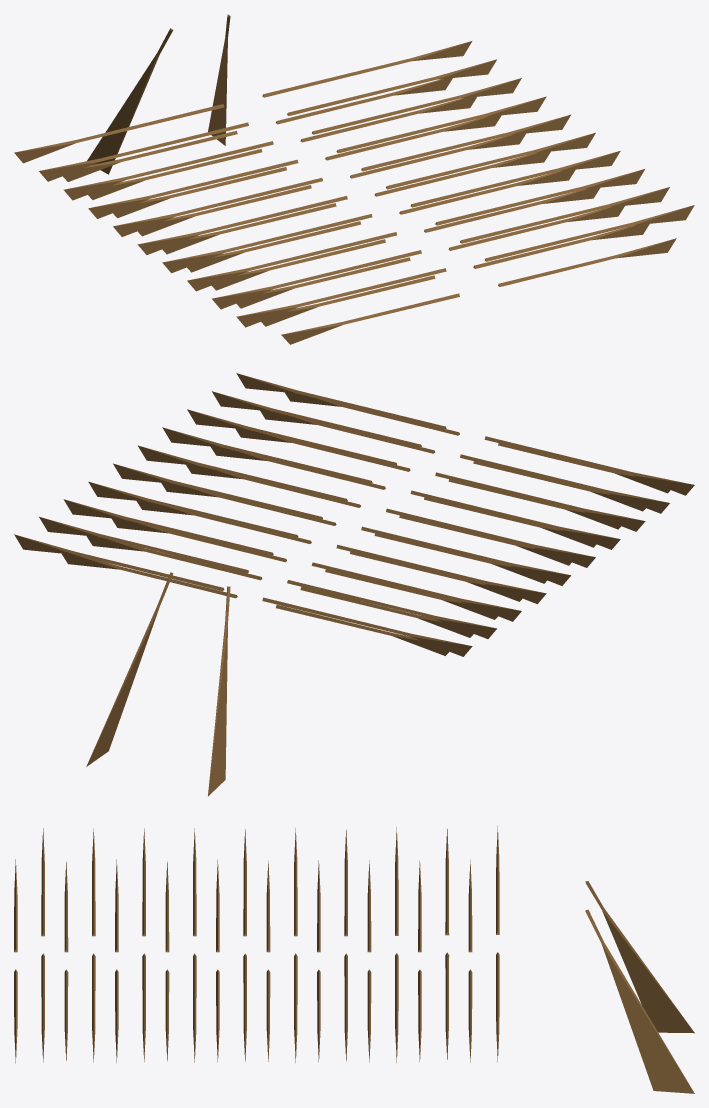
File: pers_bir_oars.dae
3 views of the same model, one above another, from view 1: azimuth 30°, elevation 25°; view 2: azimuth 150°, elevation 25°; view 3: azimuth 270°, elevation 25° (orthographic). The views are drawn at different scales.
Visible parts, largest first — view 1: Plane_004; view 2: Plane_004; view 3: Plane_004.
Boxes of the visible parts, <box> form: Plane_004: <box>14,14,694,344</box>; Plane_004: <box>14,373,694,796</box>; Plane_004: <box>14,825,694,1093</box>.
Size of the model in its own units: 21.24 by 26.7 by 7.28.
